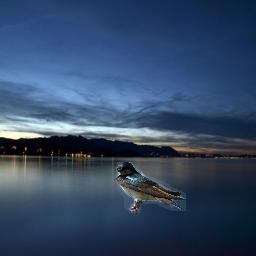Swallow: (116, 162, 186, 213)
